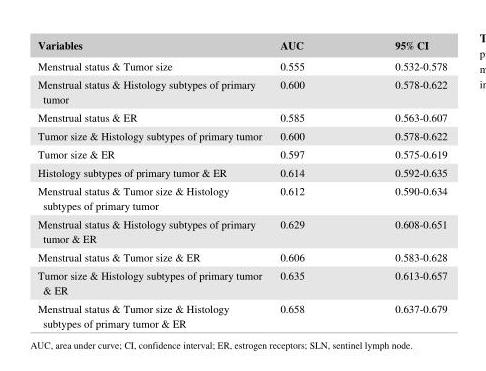table: (37, 37, 446, 331)
table column: (37, 37, 270, 331), (349, 37, 446, 331), (270, 37, 349, 331)
table column header: (37, 37, 446, 56)
table row: (37, 75, 446, 108), (37, 182, 446, 215), (37, 215, 446, 248), (37, 266, 446, 299), (37, 299, 446, 331), (37, 37, 446, 56), (37, 56, 446, 75), (37, 108, 446, 127), (37, 163, 446, 182), (37, 127, 446, 145), (37, 145, 446, 163), (37, 248, 446, 266)
